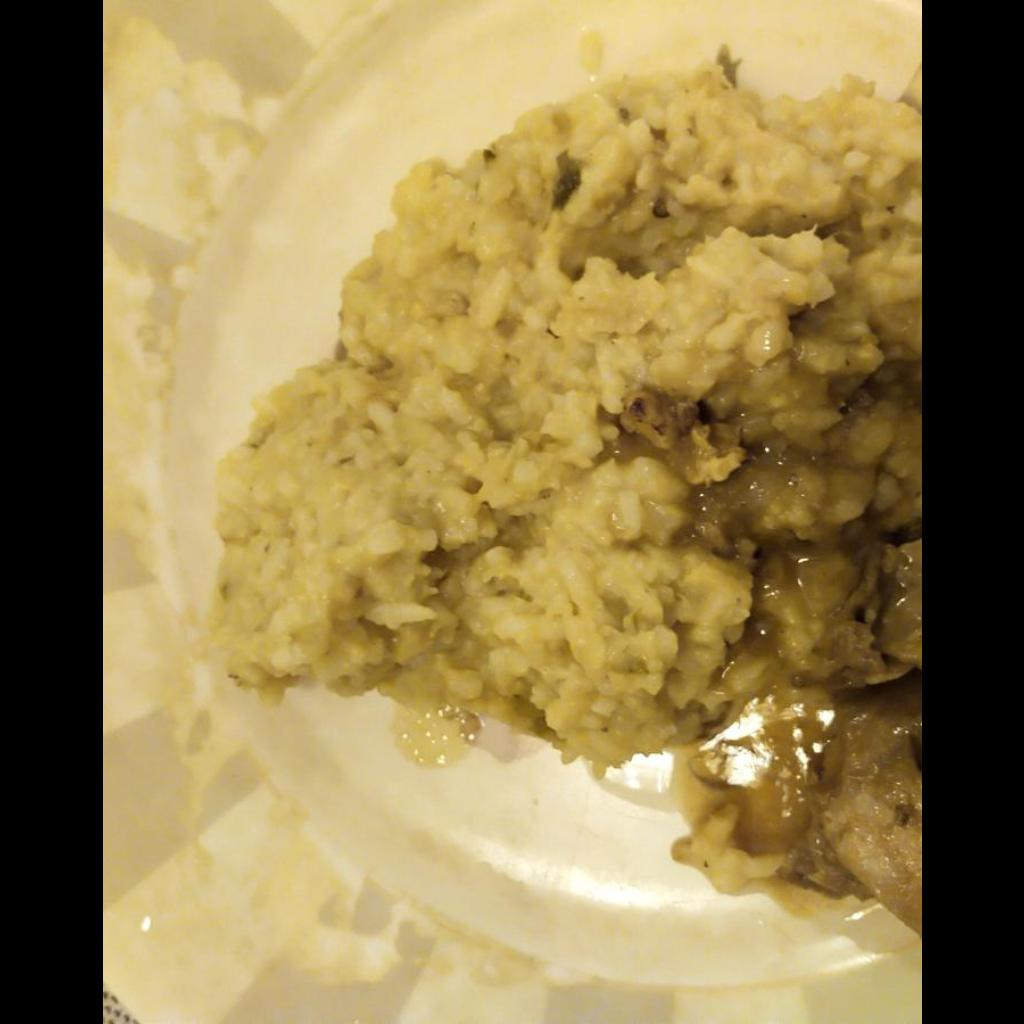khichuri: (209, 64, 920, 939)
